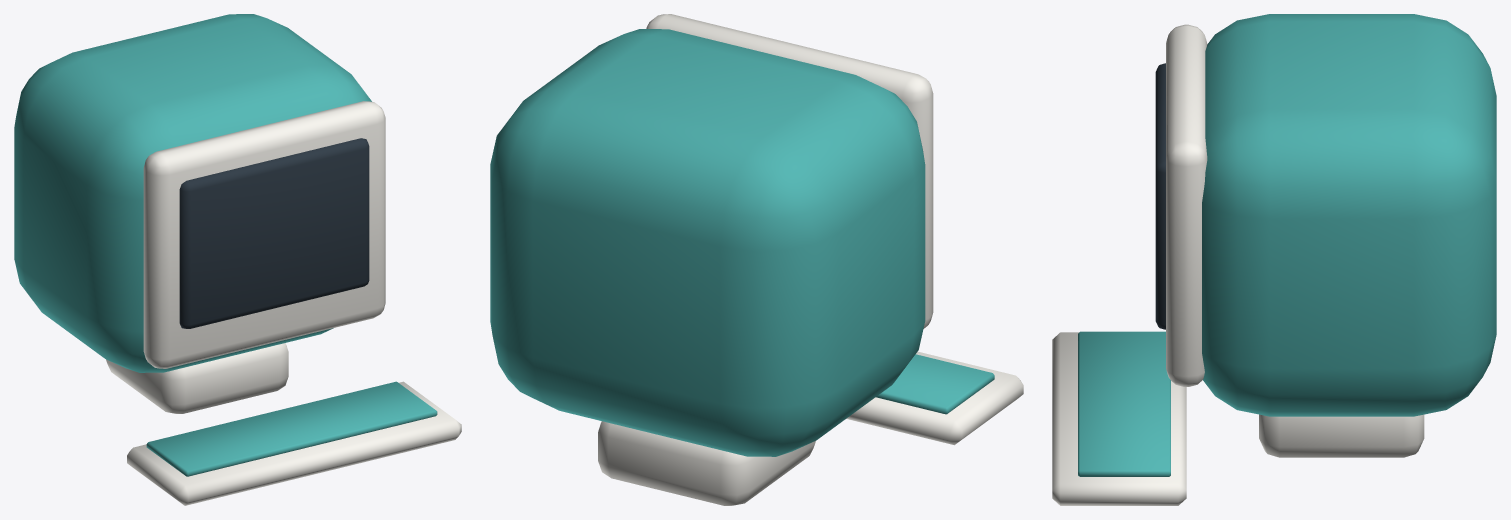
3 renders of one model, left to right at view 1: azimuth 30°, elevation 25°; view 2: azimuth 150°, elevation 25°; view 3: azimuth 270°, elevation 25°, orthographic. The views are drawn at different scales.
Visible parts, largest first — view 1: g4; view 2: g4; view 3: g4.
Part boxes in pixels (left/top/right/bottom): g4: left=14, top=14, right=461, bottom=505; g4: left=490, top=14, right=1023, bottom=505; g4: left=1052, top=14, right=1496, bottom=505.
Bounding box in the file's own units: 0.36 × 0.39 × 0.43.
1 material, 1 textured.
